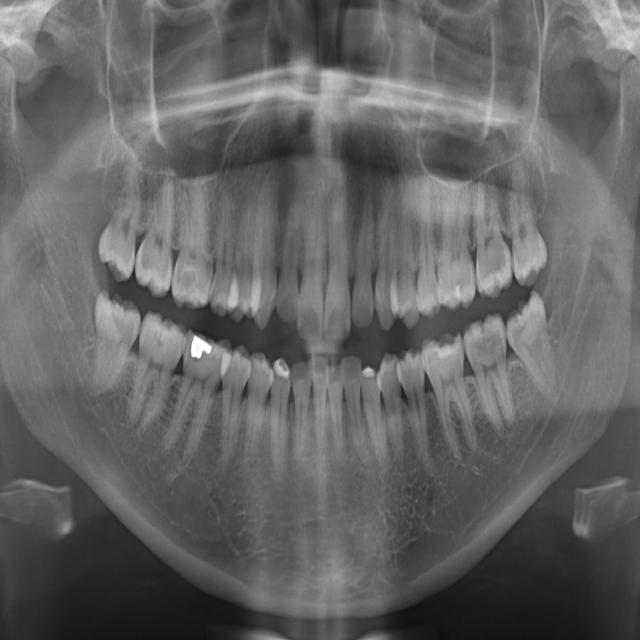AmalgamRestoration: (190, 335, 214, 363)
CompositeResinRestoration: (274, 361, 291, 382)
DentalCaries: (476, 329, 496, 365), (175, 260, 197, 292), (153, 329, 169, 354)
